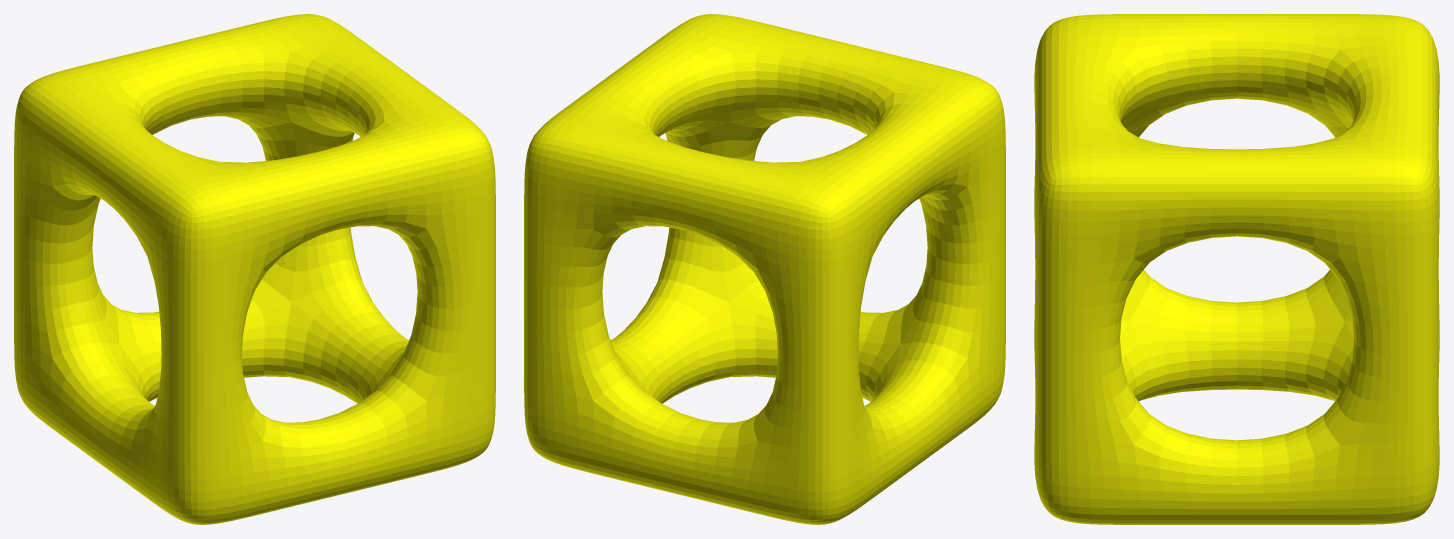
The model's file is cubo2_lev3.obj.
The picture shows the model from 3 angles, left to right: view 1: azimuth 30°, elevation 25°; view 2: azimuth 150°, elevation 25°; view 3: azimuth 270°, elevation 25°; orthographic projection. The views are drawn at different scales.
Visible parts, largest first — view 1: cubo2; view 2: cubo2; view 3: cubo2.
Boxes of the visible parts, left/top/right/bottom form: cubo2: left=14, top=14, right=495, bottom=524; cubo2: left=524, top=14, right=1005, bottom=524; cubo2: left=1034, top=14, right=1439, bottom=524.
Size of the model in its own units: 4.15 by 4.15 by 4.15.
